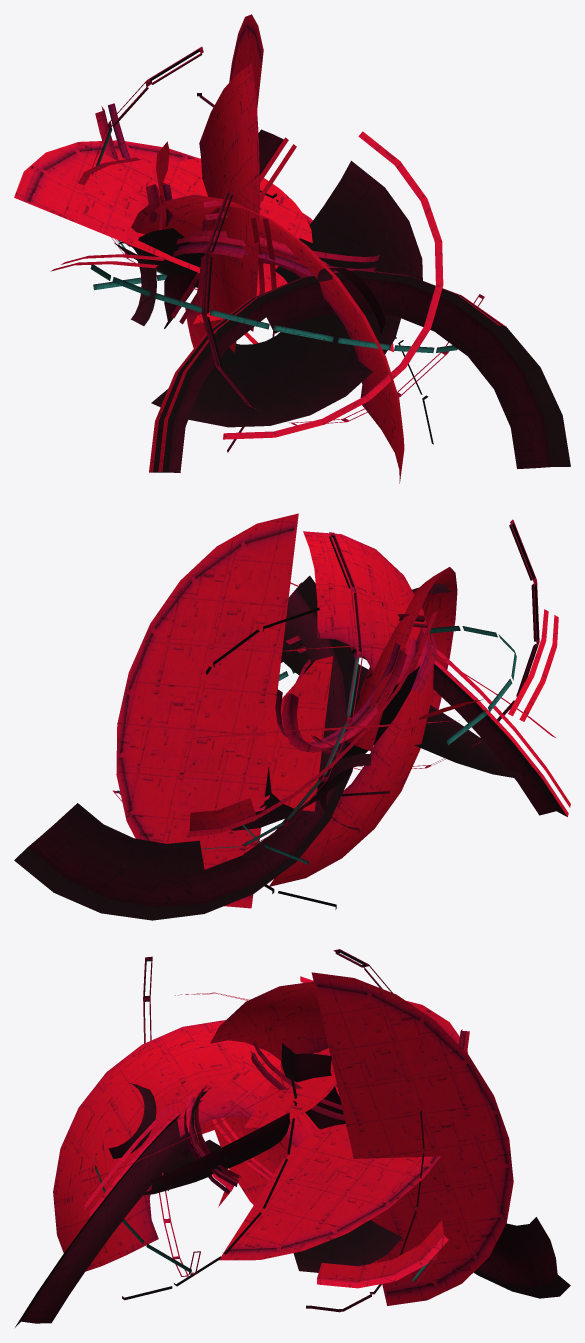
File: MonsterB_Die6.obj
3 renders of one model, top to bottom at view 1: azimuth 30°, elevation 25°; view 2: azimuth 150°, elevation 25°; view 3: azimuth 270°, elevation 25°, orthographic. The views are drawn at different scales.
Parts seen in each view (by area): view 1: Sphere001; view 2: Sphere001; view 3: Sphere001.
Part boxes in pixels (x1,y1,x2,y2): Sphere001: (14,14,570,483); Sphere001: (14,513,570,920); Sphere001: (15,949,570,1327).
Size of the model in its own units: 209 by 211 by 299.
Materials: 1 (1 with a texture image).
